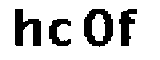0: (81, 3, 116, 51)
c: (48, 16, 73, 48)
f: (118, 4, 141, 51)
h: (10, 9, 43, 50)
